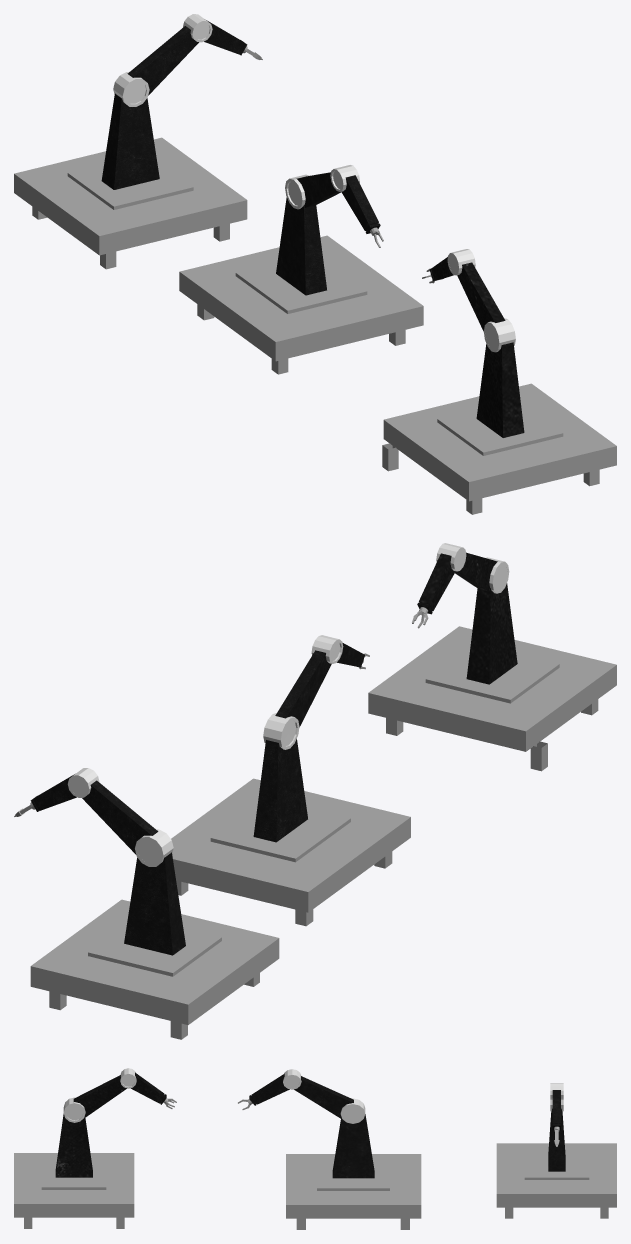
The model's file is robotic arms.fbx.
3 views of the same model, one above another, from view 1: azimuth 30°, elevation 25°; view 2: azimuth 150°, elevation 25°; view 3: azimuth 270°, elevation 25° (orthographic). The views are drawn at different scales.
Visible parts, largest first — view 1: polySurface2390, polySurface2367, polySurface2350, polySurface2342, polySurface2392, polySurface2375, polySurface2391, polySurface2361, polySurface2343, polySurface2345, polySurface2363, polySurface2380 (+3 smaller); view 2: polySurface2390, polySurface2367, polySurface2350, polySurface2342, polySurface2392, polySurface2375, polySurface2391, polySurface2361, polySurface2343, polySurface2345, polySurface2386, polySurface2356 (+4 smaller); view 3: polySurface2390, polySurface2350, polySurface2367, polySurface2392, polySurface2375, polySurface2343, polySurface2391, polySurface2361, polySurface2386, polySurface2363, polySurface2342, polySurface2380 (+6 smaller).
Part boxes in pixels (left/top/right/bottom): polySurface2390: left=179, top=235, right=423, bottom=361; polySurface2367: left=383, top=383, right=616, bottom=501; polySurface2350: left=14, top=137, right=247, bottom=255; polySurface2342: left=101, top=93, right=159, bottom=189; polySurface2392: left=276, top=197, right=326, bottom=295; polySurface2375: left=476, top=342, right=524, bottom=437; polySurface2391: left=235, top=259, right=367, bottom=313; polySurface2361: left=437, top=402, right=563, bottom=455; polySurface2343: left=67, top=160, right=193, bottom=209; polySurface2345: left=127, top=26, right=198, bottom=95; polySurface2363: left=457, top=262, right=505, bottom=331; polySurface2380: left=341, top=175, right=380, bottom=233; polySurface2390: left=171, top=778, right=410, bottom=912; polySurface2367: left=368, top=626, right=616, bottom=751; polySurface2350: left=30, top=899, right=279, bottom=1024; polySurface2342: left=124, top=852, right=185, bottom=955; polySurface2392: left=253, top=739, right=307, bottom=842; polySurface2375: left=466, top=583, right=517, bottom=684; polySurface2391: left=210, top=803, right=350, bottom=862; polySurface2361: left=425, top=646, right=559, bottom=703; polySurface2343: left=88, top=924, right=221, bottom=976; polySurface2345: left=82, top=780, right=158, bottom=854; polySurface2386: left=275, top=650, right=331, bottom=727; polySurface2356: left=417, top=553, right=455, bottom=614; polySurface2390: left=286, top=1154, right=421, bottom=1218; polySurface2350: left=496, top=1143, right=616, bottom=1207; polySurface2367: left=14, top=1153, right=134, bottom=1217; polySurface2392: left=332, top=1114, right=374, bottom=1178; polySurface2375: left=55, top=1113, right=92, bottom=1177; polySurface2343: left=524, top=1150, right=589, bottom=1179; polySurface2391: left=317, top=1161, right=389, bottom=1190; polySurface2361: left=41, top=1160, right=106, bottom=1189; polySurface2386: left=294, top=1076, right=353, bottom=1118; polySurface2363: left=73, top=1075, right=126, bottom=1117; polySurface2342: left=548, top=1108, right=565, bottom=1171; polySurface2380: left=249, top=1074, right=289, bottom=1105.
Bounding box in the file's own units: 176 × 161 × 636.
Materials: 3 (1 with a texture image).
